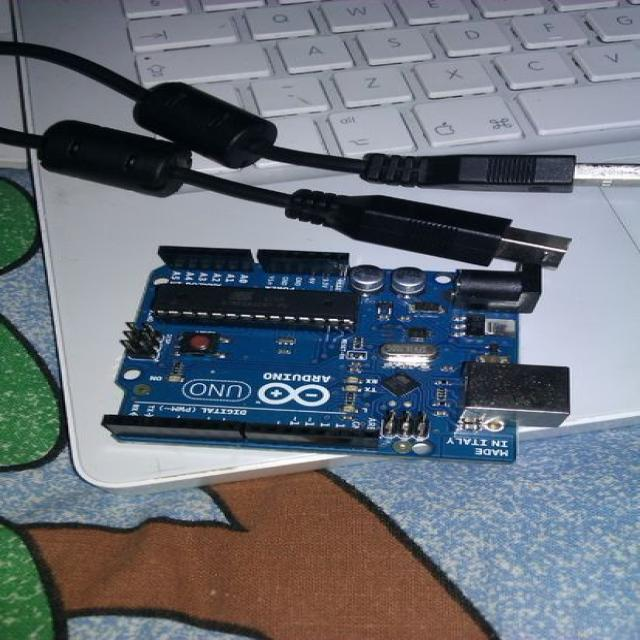Arduino: (83, 242, 593, 477)
